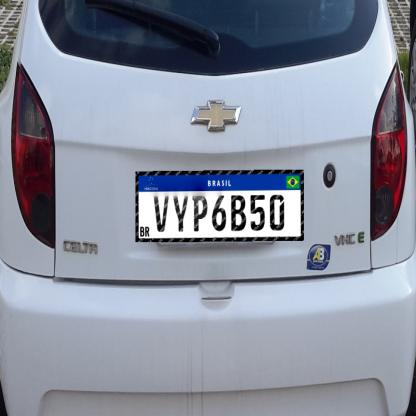PlacaM: (135, 170, 304, 242)
